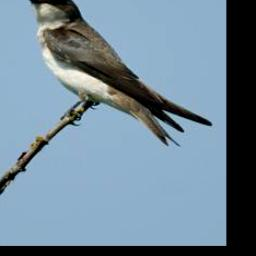Swallow: (26, 0, 212, 147)
